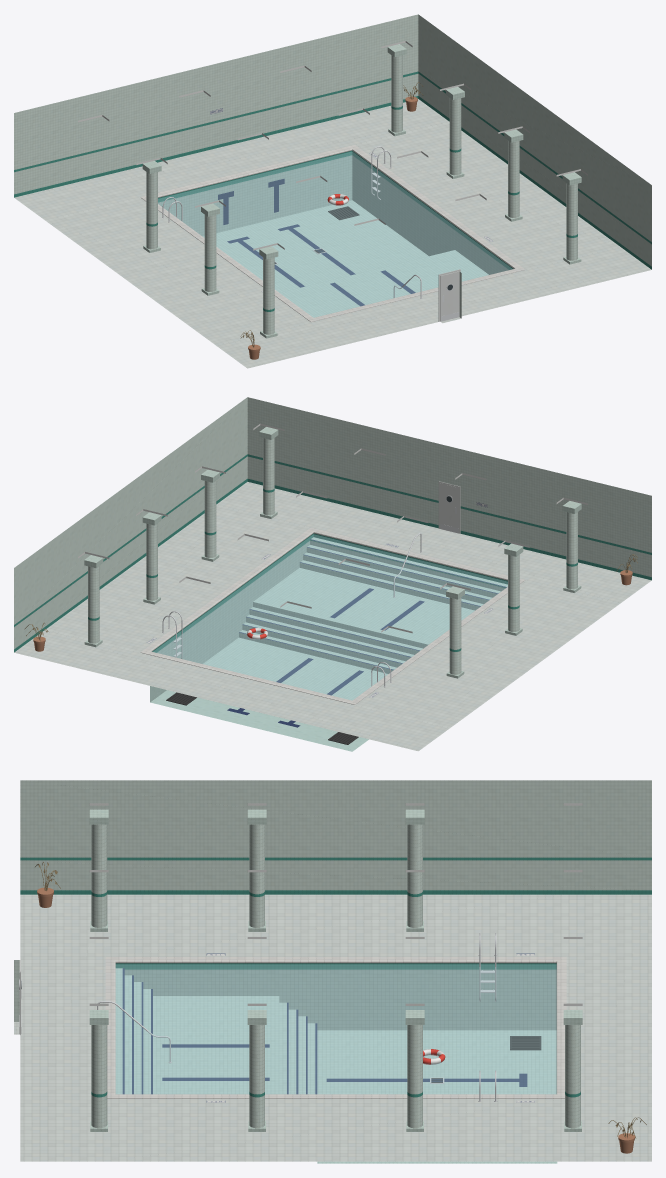
File: sub_pool_10.glb
The picture shows the model from 3 angles, top to bottom: view 1: azimuth 30°, elevation 25°; view 2: azimuth 150°, elevation 25°; view 3: azimuth 270°, elevation 25°; orthographic projection. The views are drawn at different scales.
Parts seen in each view (by area): view 1: Tile_Wall, Tile_Deck, Pool_Water, Tile_Pool, Tile_Accent, Tile_Lip, Tile_Trim, Tile_Lane, Ceiling_Paint, DoorLeaf_atrium, Chrome; view 2: Tile_Wall, Tile_Deck, Tile_Pool, Pool_Water, Tile_Accent, Tile_Lip, Tile_Lane, Tile_Trim, Ceiling_Paint, DoorLeaf_atrium, Chrome; view 3: Tile_Deck, Tile_Wall, Pool_Water, Tile_Pool, Tile_Accent, Tile_Lip, Tile_Lane, Tile_Trim, Ceiling_Paint, Chrome, Pot_Clay.
Part boxes in pixels (x1=…): Tile_Wall: x1=14, y1=14, x2=651, y2=334; Tile_Deck: x1=14, y1=99, x2=651, y2=368; Pool_Water: x1=158, y1=152, x2=511, y2=317; Tile_Pool: x1=158, y1=155, x2=508, y2=317; Tile_Accent: x1=14, y1=71, x2=651, y2=311; Tile_Lip: x1=140, y1=145, x2=525, y2=322; Tile_Trim: x1=142, y1=44, x2=581, y2=338; Tile_Lane: x1=218, y1=178, x2=415, y2=306; Ceiling_Paint: x1=78, y1=41, x2=587, y2=250; DoorLeaf_atrium: x1=440, y1=271, x2=459, y2=321; Chrome: x1=162, y1=146, x2=422, y2=298; Tile_Wall: x1=14, y1=397, x2=651, y2=674; Tile_Deck: x1=14, y1=482, x2=651, y2=751; Tile_Pool: x1=150, y1=537, x2=507, y2=751; Pool_Water: x1=153, y1=534, x2=507, y2=699; Tile_Accent: x1=14, y1=454, x2=651, y2=652; Tile_Lip: x1=140, y1=527, x2=525, y2=704; Tile_Lane: x1=227, y1=539, x2=506, y2=727; Tile_Trim: x1=84, y1=427, x2=581, y2=678; Ceiling_Paint: x1=78, y1=423, x2=587, y2=633; DoorLeaf_atrium: x1=440, y1=483, x2=458, y2=533; Chrome: x1=162, y1=533, x2=422, y2=687; Tile_Deck: x1=14, y1=894, x2=651, y2=1161; Tile_Wall: x1=14, y1=780, x2=651, y2=1128; Pool_Water: x1=116, y1=964, x2=556, y2=1093; Tile_Pool: x1=115, y1=968, x2=557, y2=1163; Tile_Accent: x1=20, y1=857, x2=651, y2=1097; Tile_Lip: x1=105, y1=957, x2=566, y2=1098; Tile_Lane: x1=122, y1=968, x2=527, y2=1094; Tile_Trim: x1=89, y1=809, x2=582, y2=1131; Ceiling_Paint: x1=89, y1=803, x2=582, y2=1005; Chrome: x1=97, y1=933, x2=497, y2=1101; Pot_Clay: x1=37, y1=887, x2=635, y2=1153.
Size of the model in its own units: 20 by 6.48 by 20.2.
Materials: 19 (10 with a texture image).
